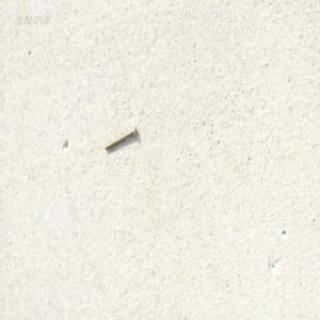Bolttrack_idkeyframe: (103, 124, 136, 151)
